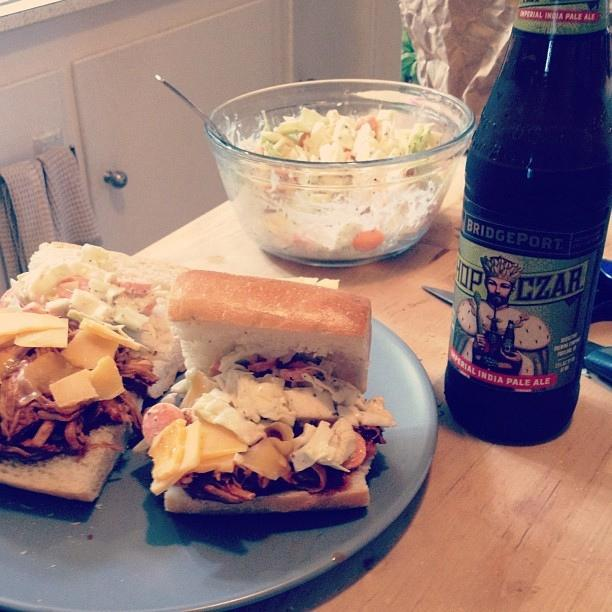carrot: (353, 230, 384, 250), (298, 133, 310, 147), (368, 116, 377, 131)
